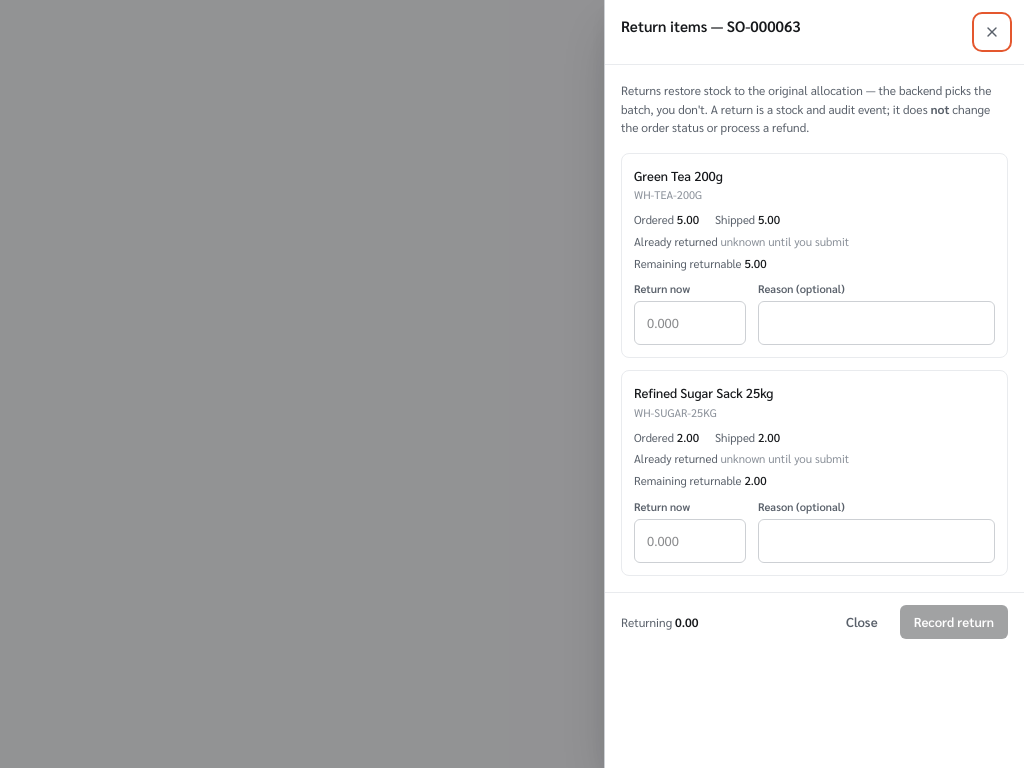
Scenario: ReturnDrawer › blocks a return above the ordered quantity client-side (no request)
Type "9" into the field named "Return quantity for Green Tea 200g".
click(690, 324); type("9")  # box [634,302,746,346]
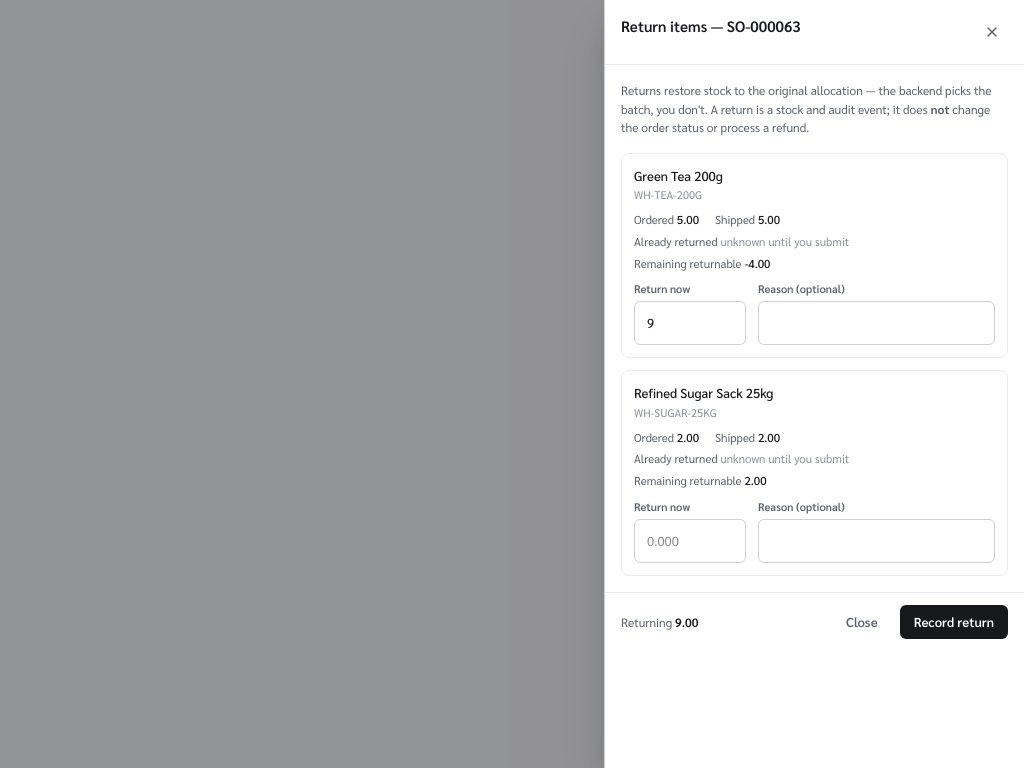
Click the button "Record return".
click(954, 622)  # box [900,605,1008,639]
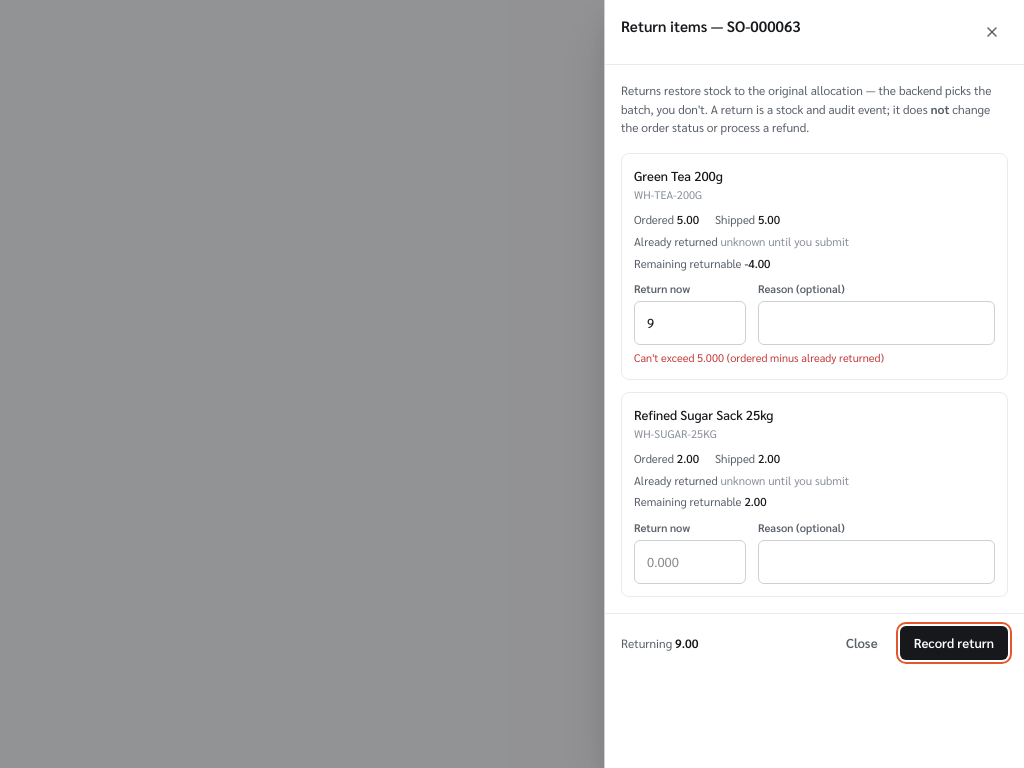
Check: the text "Can't exceed 5.000 (ordered minus already returned)" is shown, box [634,350,884,366]
